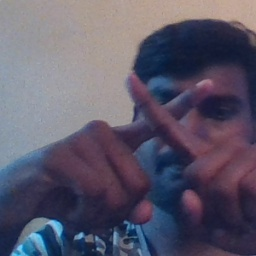X: (105, 58, 226, 202)
